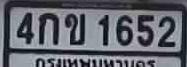1: (98, 14, 108, 45)
2: (157, 15, 174, 46)
4: (16, 11, 33, 43)
5: (137, 14, 153, 45)
6: (116, 14, 132, 45)
A01: (38, 12, 58, 44)
A02: (64, 13, 84, 44)
